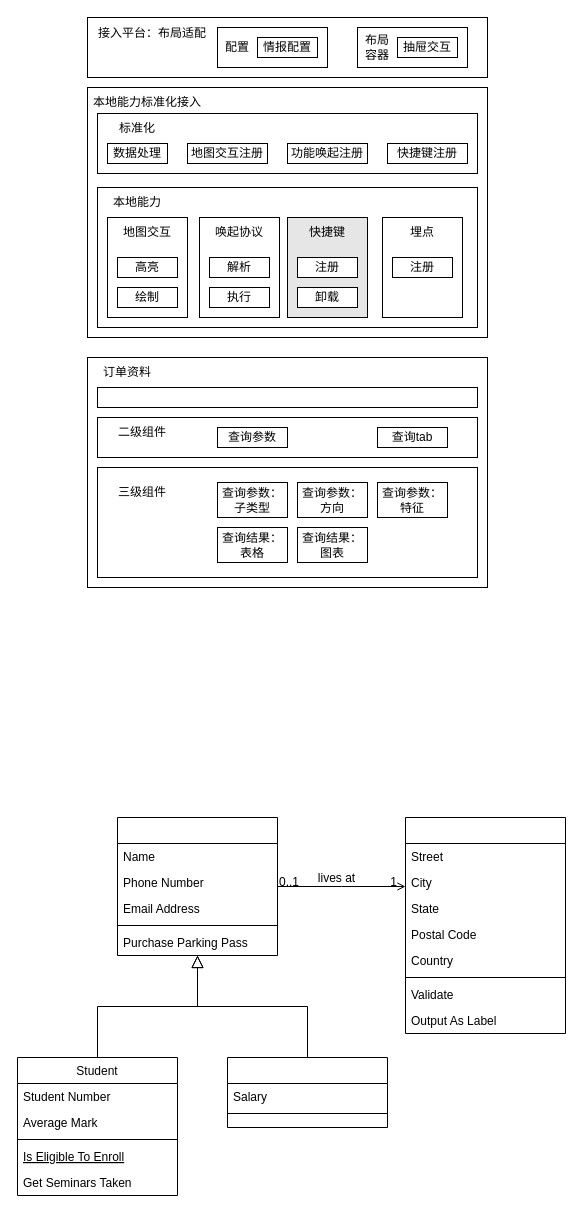
The diagram is 583 pixels wide and 1216 high, and some of its shapes have lost their labels. Each missing label, with the box of its shape:
Address: (404, 816, 566, 1034)
Person: (116, 816, 278, 956)
Professor: (226, 1056, 388, 1128)
一级组件：资料tab: (96, 386, 478, 408)
